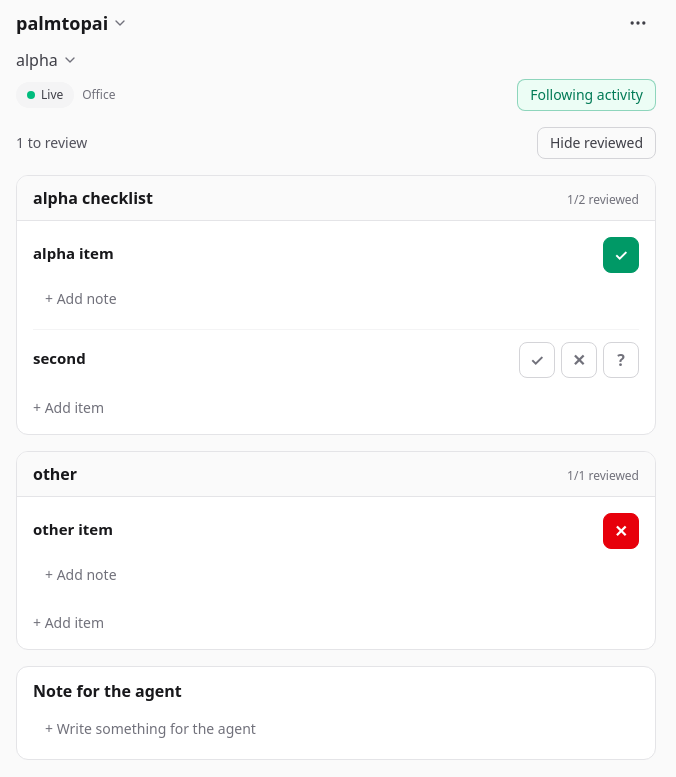
Test case: ProjectView › hiding reviewed items keeps checklist titles and is remembered on this device
This screenshot has width=676, height=777.
Later steps or results of the test are not shown.
Expected: the text "1 to review" is shown, [16, 133, 87, 153]
Expected: the text "alpha item" is shown, [33, 243, 114, 263]
Click the button "Hide reviewed" at {"x": 596, "y": 143}, box [537, 127, 656, 159]
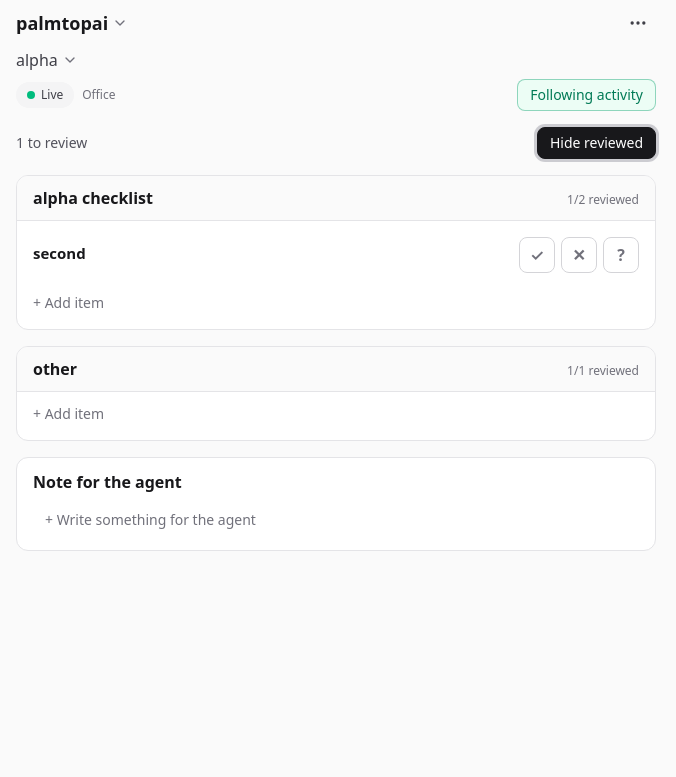
Expected: the text "second" is shown, [33, 243, 86, 263]
Now the text "alpha item" is gone
Now the list "other item ✕ + Add note" is gone
